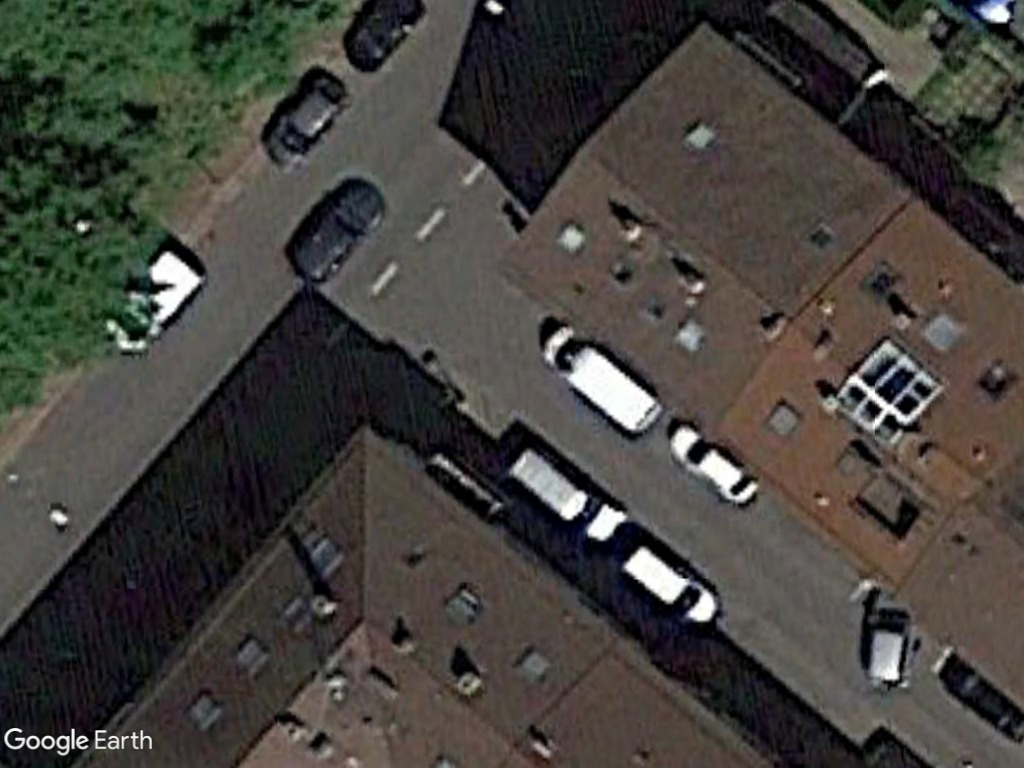car: (668, 420, 763, 511), (262, 75, 354, 166)
van: (535, 321, 661, 439), (616, 535, 723, 636), (508, 442, 605, 535)
